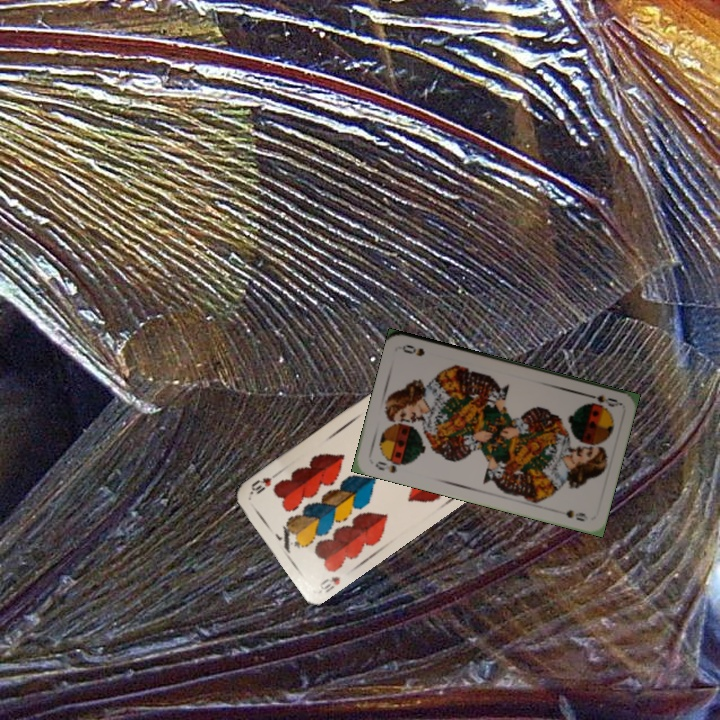H10: (315, 572, 343, 595)
SO: (581, 389, 621, 410), (371, 456, 409, 476)
